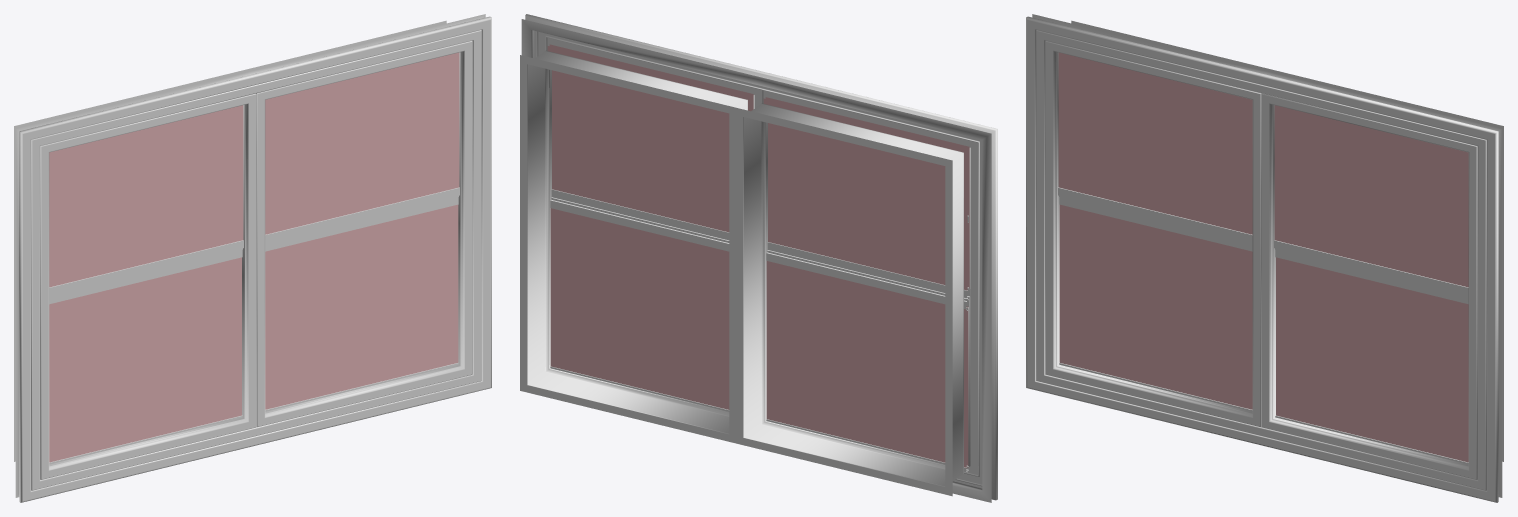
File: WindowDoubleGrilledSlider.fbx
The picture shows the model from 3 angles, left to right: view 1: azimuth 30°, elevation 25°; view 2: azimuth 150°, elevation 25°; view 3: azimuth 330°, elevation 25°; orthographic projection.
Parts seen in each view (by area): view 1: Window_LOD0, Slider.001, Slider; view 2: Window_LOD0, Slider, Slider.001; view 3: Window_LOD0, Slider, Slider.001.
Part boxes in pixels (x1,y1,x2,y2): Window_LOD0: [14, 14, 491, 502]; Slider.001: [265, 197, 458, 411]; Slider: [49, 249, 242, 464]; Window_LOD0: [520, 14, 997, 502]; Slider: [766, 250, 968, 472]; Slider.001: [550, 197, 729, 411]; Window_LOD0: [1026, 14, 1503, 502]; Slider: [1059, 197, 1252, 411]; Slider.001: [1275, 249, 1468, 464].
Size of what is drawn, in the model's own units: 504 by 379 by 49.03.
